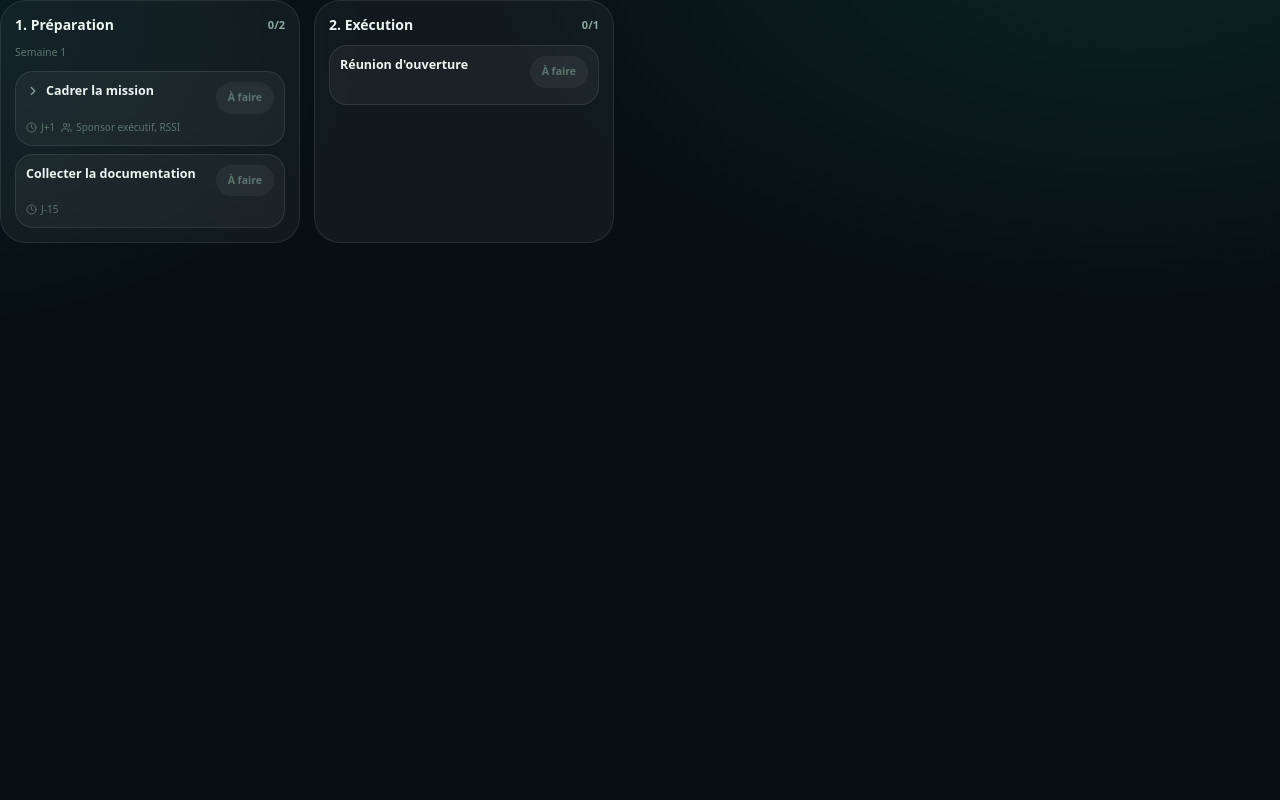
it: PhaseKanban › déplie les questions au clic, sans les inventer ni en perdre
Expected: the text "Quel est le périmètre exact ?" is not shown
Click the button "Cadrer la mission" at (117, 90), box 26,82 -> 208,99
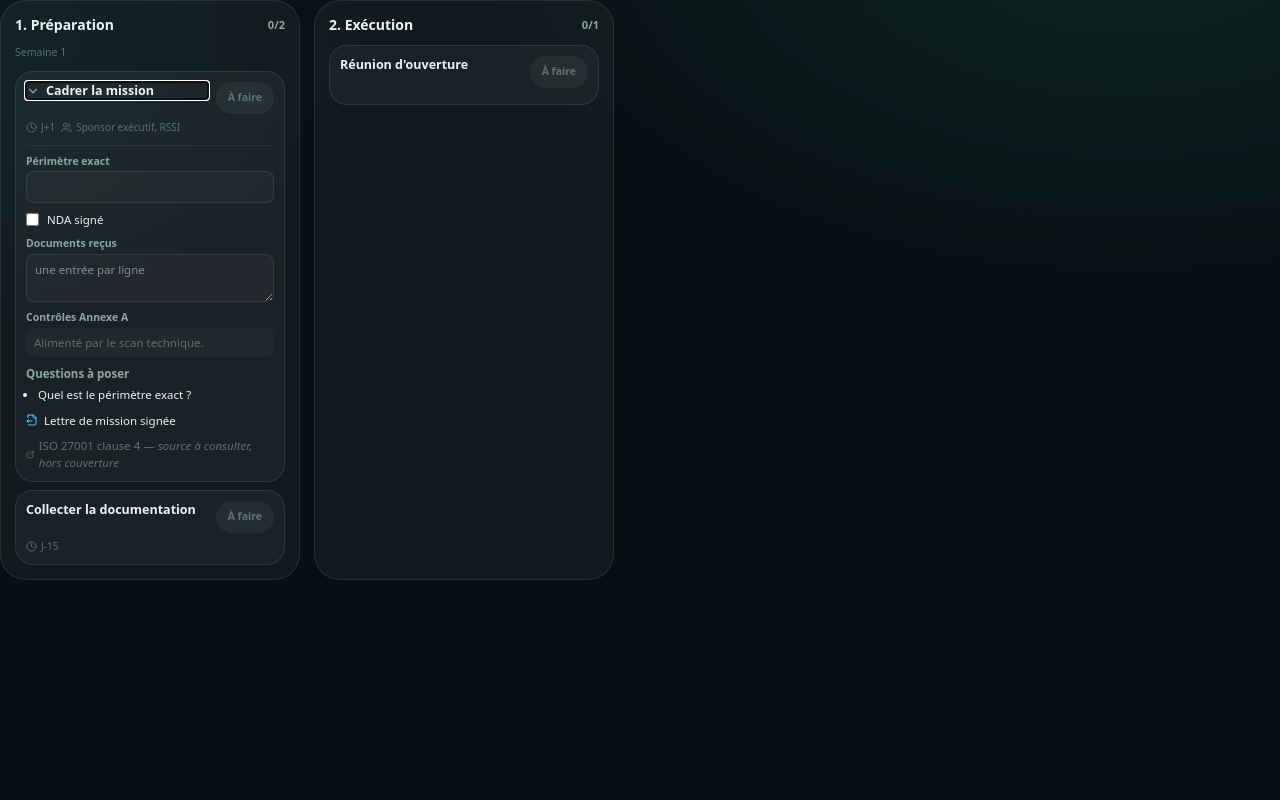
Result: the list item "Quel est le périmètre exact ?" is shown at 38,387 -> 191,402
Result: the text "Lettre de mission signée" is shown at 44,412 -> 176,429
